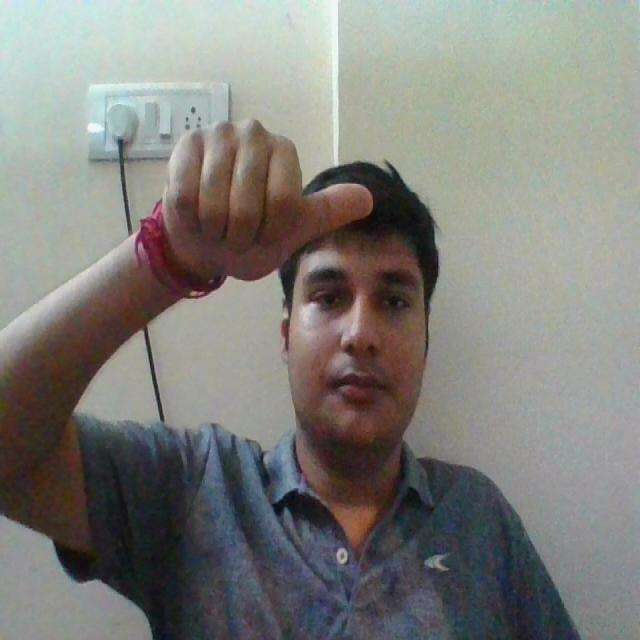Yes: (160, 116, 379, 301)
